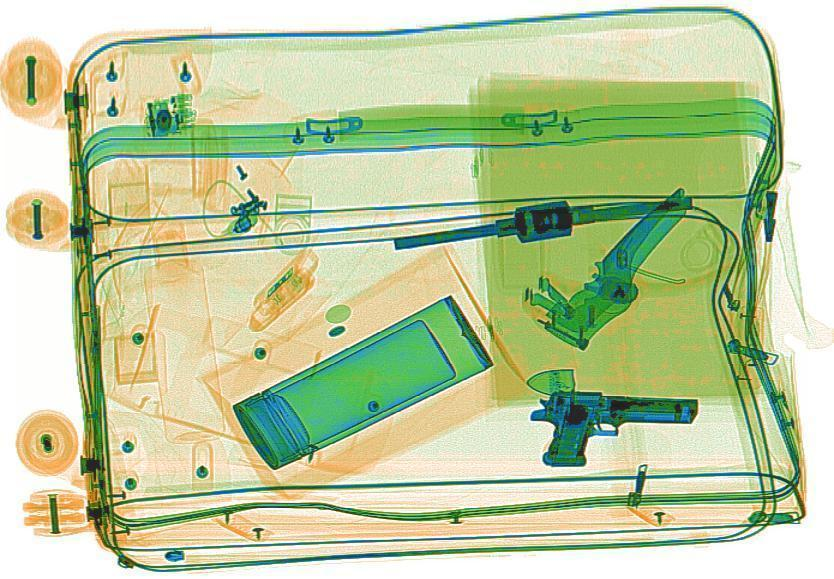Gun: (523, 387, 699, 472)
